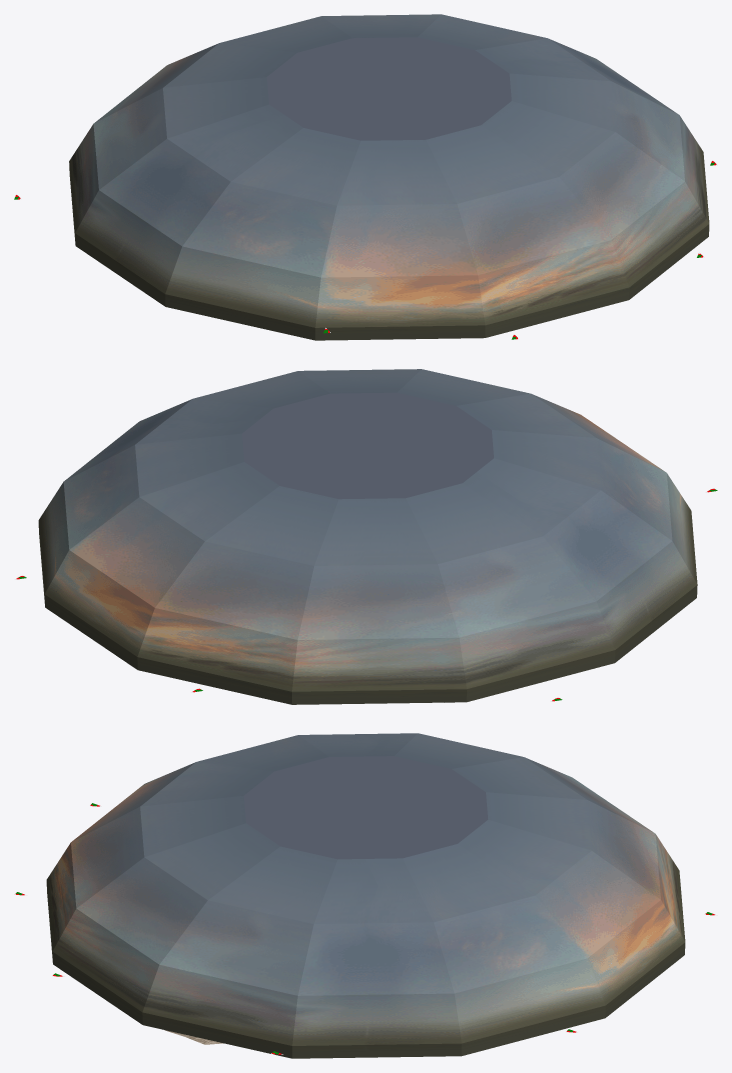
Rendered from recovered_map_mp73.glb.
3 renders of one model, top to bottom at view 1: azimuth 30°, elevation 25°; view 2: azimuth 150°, elevation 25°; view 3: azimuth 270°, elevation 25°, orthographic. The views are drawn at different scales.
Visible parts, largest first — view 1: S_gen_cloudy_blue_sky, S_gen_cloudy_blue_top; view 2: S_gen_cloudy_blue_sky, S_gen_cloudy_blue_top; view 3: S_gen_cloudy_blue_sky, S_gen_cloudy_blue_top.
Boxes of the visible parts, x1,y1,x2,y2 form: S_gen_cloudy_blue_sky: (69,14,709,340); S_gen_cloudy_blue_top: (266,37,511,140); S_gen_cloudy_blue_sky: (38,369,697,704); S_gen_cloudy_blue_top: (242,392,493,499); S_gen_cloudy_blue_sky: (46,733,685,1058); S_gen_cloudy_blue_top: (243,756,488,859).
Size of what is drawn, in the model's own units: 576 by 165 by 624.
78 materials, 78 textured.
